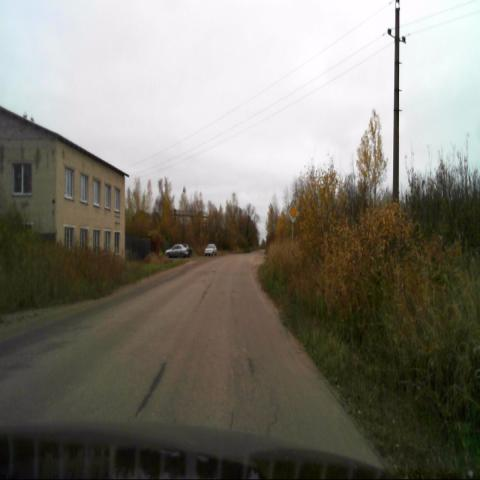2_1: (286, 201, 300, 223)
